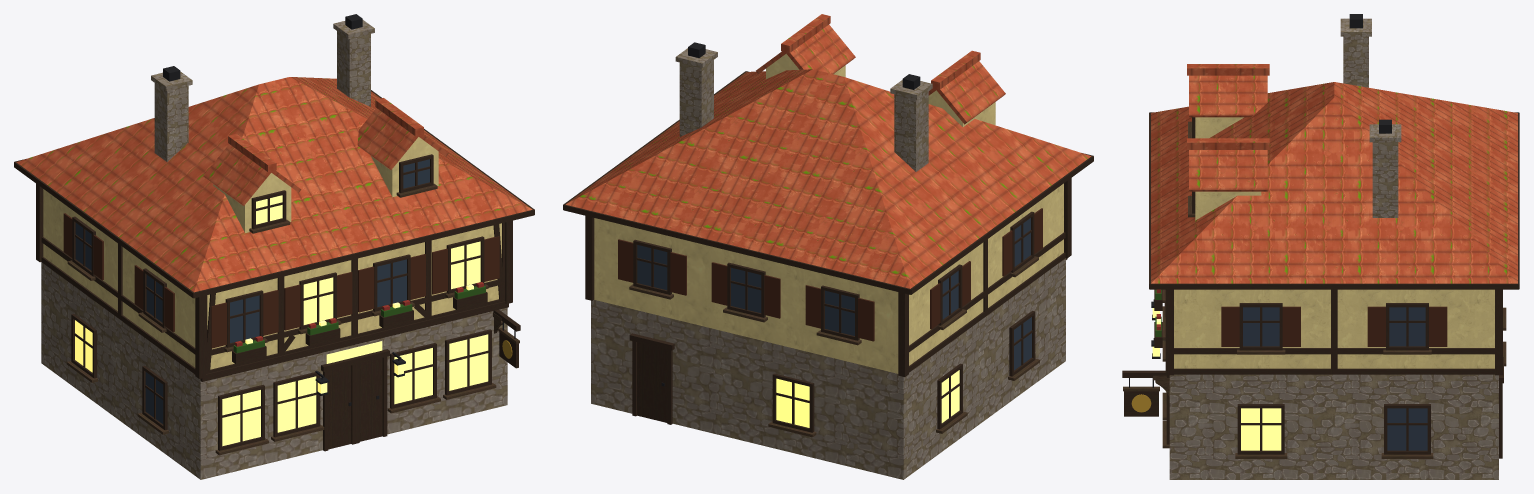
Rendered from lantern_inn.glb.
3 renders of one model, left to right at view 1: azimuth 30°, elevation 25°; view 2: azimuth 150°, elevation 25°; view 3: azimuth 270°, elevation 25°, orthographic. The views are drawn at different scales.
Parts seen in each view (by area): view 1: lantern_inn; view 2: lantern_inn; view 3: lantern_inn.
Boxes of the visible parts, x1,y1,x2,y2 form: lantern_inn: (14, 14, 534, 479); lantern_inn: (563, 14, 1093, 479); lantern_inn: (1122, 14, 1519, 479).
Bounding box in the file's own units: 11.14 × 10.25 × 10.87.
Materials: 11 (4 with a texture image).
